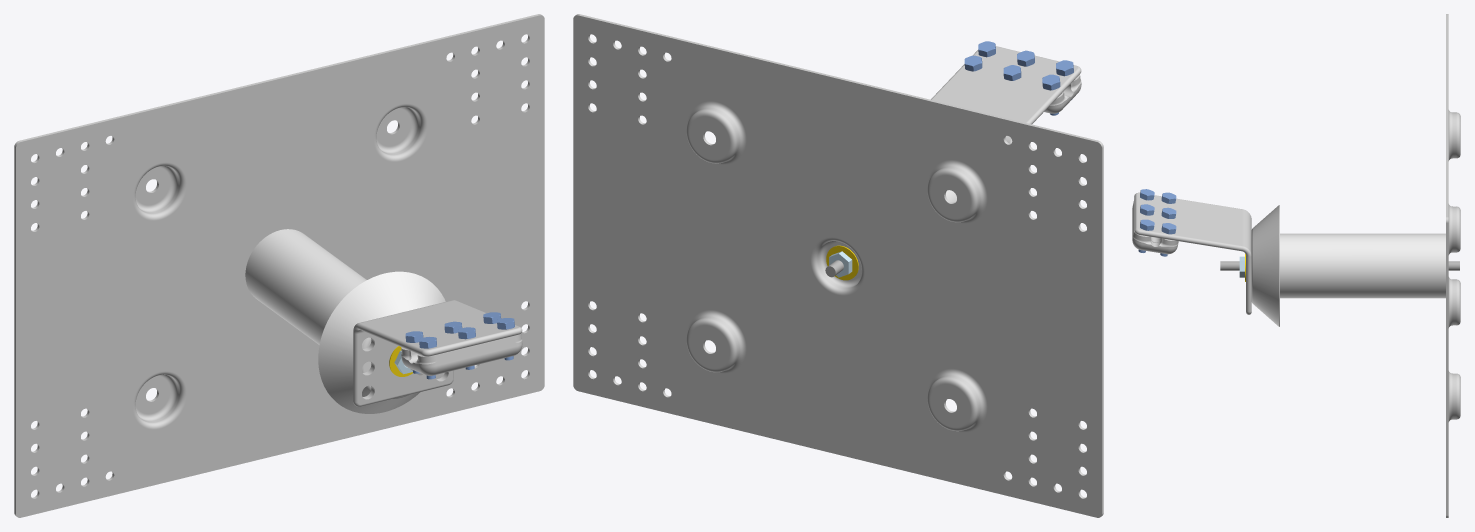
Rendered from PB_HOOKT.glb.
3 renders of one model, left to right at view 1: azimuth 30°, elevation 25°; view 2: azimuth 150°, elevation 25°; view 3: azimuth 270°, elevation 25°, orthographic. The views are drawn at different scales.
Parts seen in each view (by area): view 1: plate, Platine_NewPro, tilting post, ruff, Matrice_NewPro; view 2: plate, Platine_NewPro; view 3: tilting post, Platine_NewPro, plate, ruff, Matrice_NewPro.
Part boxes in pixels (left/top/right/bottom): plate: left=14, top=14, right=544, bottom=517; Platine_NewPro: left=353, top=300, right=522, bottom=406; tilting post: left=245, top=229, right=366, bottom=344; ruff: left=318, top=271, right=445, bottom=413; Matrice_NewPro: left=401, top=334, right=522, bottom=375; plate: left=573, top=14, right=1103, bottom=517; Platine_NewPro: left=931, top=46, right=1081, bottom=143; tilting post: left=1280, top=233, right=1445, bottom=298; Platine_NewPro: left=1134, top=192, right=1251, bottom=314; plate: left=1446, top=14, right=1460, bottom=517; ruff: left=1251, top=205, right=1279, bottom=326; Matrice_NewPro: left=1132, top=200, right=1178, bottom=254.
Bounding box in the file's own units: 0.53 × 0.36 × 0.3562.
